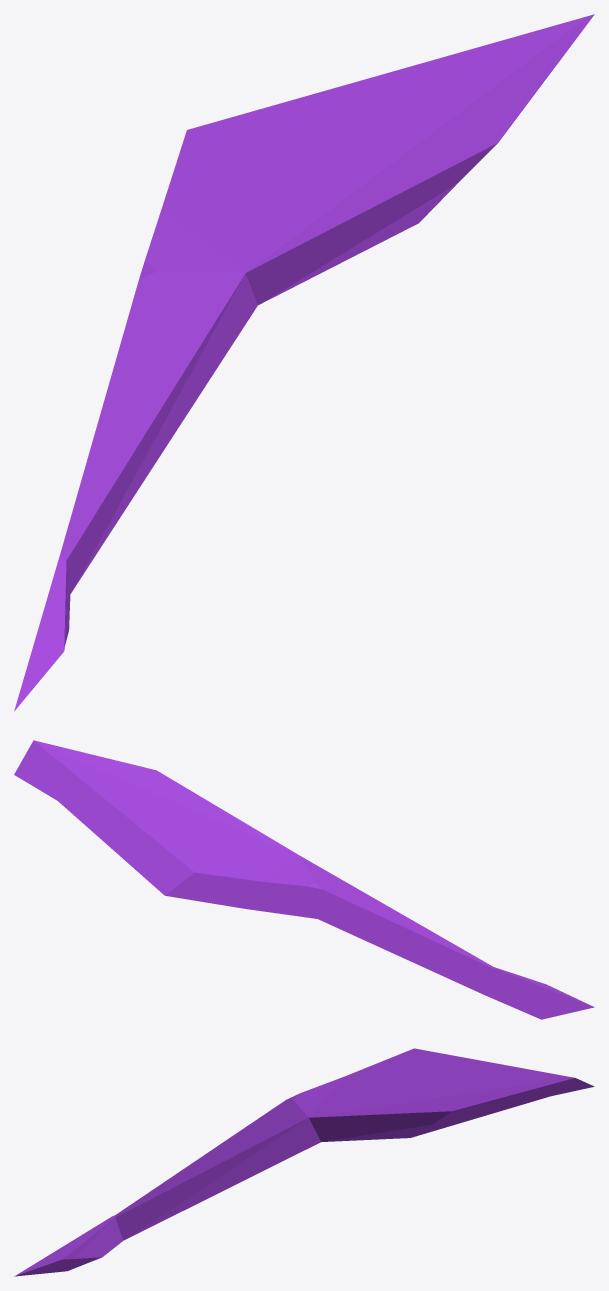
The model's file is Glass_101_2_6_chunks.fbx.
3 renders of one model, top to bottom at view 1: azimuth 30°, elevation 25°; view 2: azimuth 150°, elevation 25°; view 3: azimuth 330°, elevation 25°, orthographic. The views are drawn at different scales.
Visible parts, largest first — view 1: Glass_101_2_6_5, Glass_101_2_6_3, Glass_101_2_6_6, Glass_101_2_6_2, Glass_101_2_6_0, Glass_101_2_6_4; view 2: Glass_101_2_6_5, Glass_101_2_6_6, Glass_101_2_6_0, Glass_101_2_6_2, Glass_101_2_6_3; view 3: Glass_101_2_6_5, Glass_101_2_6_2, Glass_101_2_6_3, Glass_101_2_6_6, Glass_101_2_6_0, Glass_101_2_6_4.
Part boxes in pixels (x1,y1,x2,y2): Glass_101_2_6_5: (271,14,594,238); Glass_101_2_6_3: (187,187,407,343); Glass_101_2_6_6: (158,106,299,281); Glass_101_2_6_2: (14,344,223,711); Glass_101_2_6_0: (83,221,213,474); Glass_101_2_6_4: (213,271,324,357); Glass_101_2_6_5: (14,740,221,871); Glass_101_2_6_6: (137,837,315,908); Glass_101_2_6_0: (247,875,442,972); Glass_101_2_6_2: (355,887,594,1019); Glass_101_2_6_3: (208,801,338,878); Glass_101_2_6_5: (386,1054,594,1138); Glass_101_2_6_2: (14,1144,284,1276); Glass_101_2_6_3: (270,1093,400,1147); Glass_101_2_6_6: (293,1048,446,1110); Glass_101_2_6_0: (166,1080,334,1180); Glass_101_2_6_4: (274,1136,356,1159).
Size of the model in its own units: 896 by 442 by 549.
